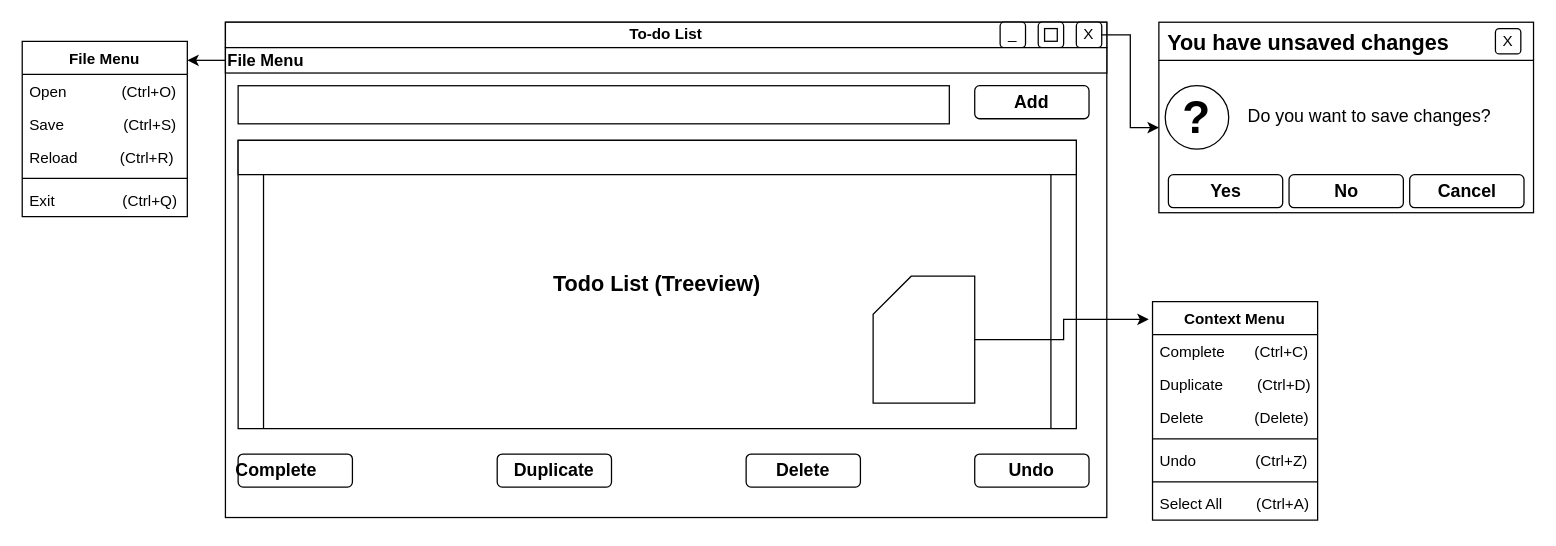
The diagram is 1556 pixels wide and 546 high, and some of its shapes have lost their labels. The shapes that lost their labels are listed below. From the top down, each one's centre as x and y in pixels, then its label:
the point at 593,104: Entry Box
the point at 656,157: Columns: ID | Title | Description | Alarm | Done
the point at 923,339: Right Click - Context Menu
